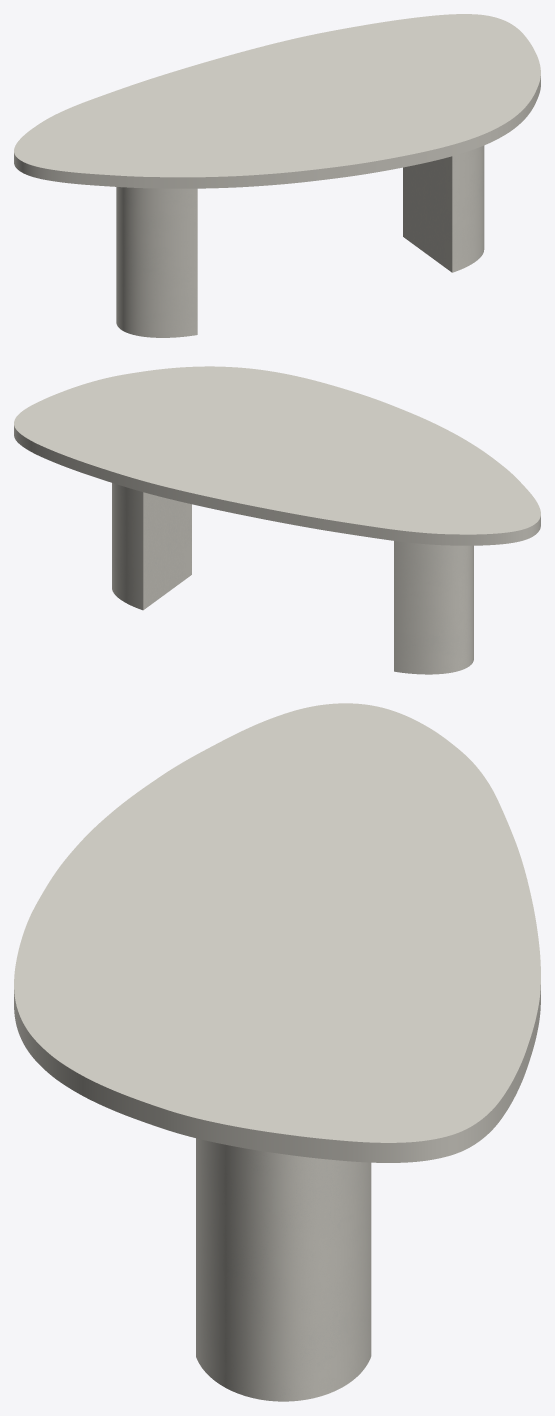
The model's file is pale_pebbletop_standard_hillside.glb.
3 renders of one model, top to bottom at view 1: azimuth 30°, elevation 25°; view 2: azimuth 150°, elevation 25°; view 3: azimuth 270°, elevation 25°, orthographic. The views are drawn at different scales.
Visible parts, largest first — view 1: standard_pebbletop, hillside; view 2: standard_pebbletop, hillside; view 3: standard_pebbletop, hillside.
Part boxes in pixels (x1,y1,x2,y2): standard_pebbletop: [14, 14, 540, 188]; hillside: [116, 145, 484, 337]; standard_pebbletop: [14, 366, 540, 545]; hillside: [112, 483, 473, 674]; standard_pebbletop: [14, 703, 540, 1162]; hillside: [196, 1138, 371, 1401].
Size of the model in its own units: 7.5 by 2.51 by 3.8.
1 material, 1 textured.
